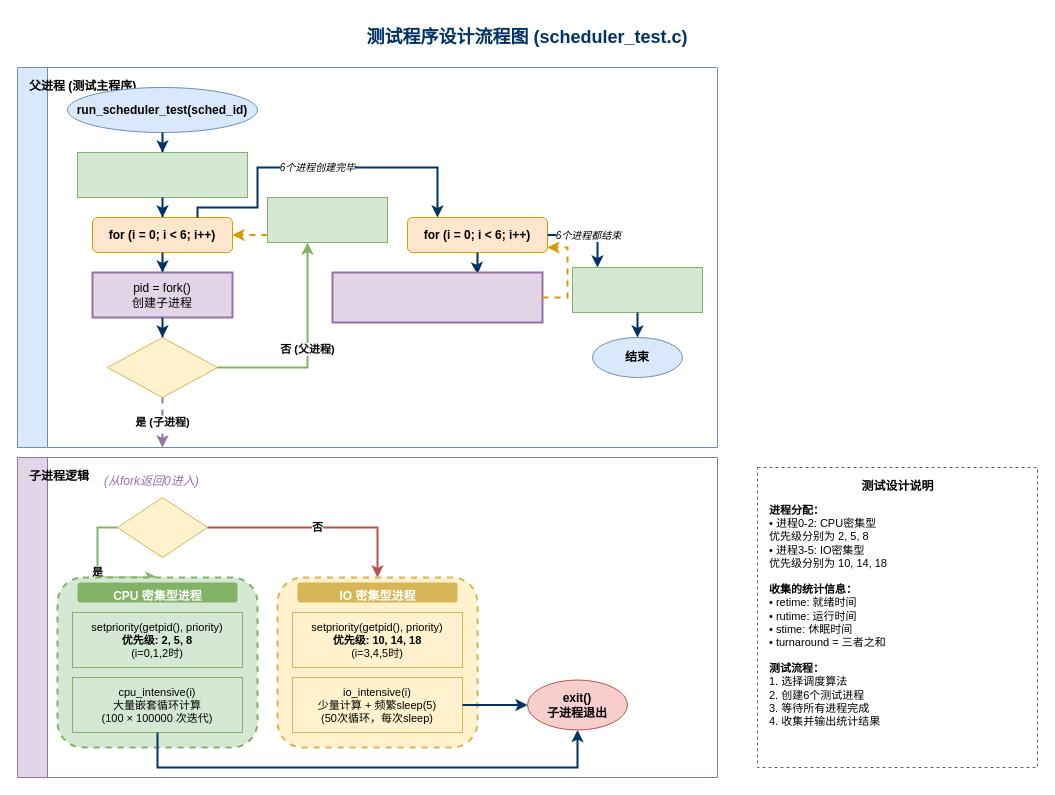
The diagram is 1055 pixels wide and 795 high, and some of its shapes have lost their labels. Here are the shapes that lost their labels. From the top down, the centre of each, then its label:
pixel 162 175: setscheduler(sched_id) 设置当前调度算法
pixel 327 219: pids[i] = pid 记录子进程ID
pixel 437 297: wait2(&retime[i], &rutime[i], &stime[i]) 等待子进程并收集统计信息
pixel 637 289: print_statistics(...) 输出统计结果
pixel 162 367: pid == 0 ?
pixel 162 527: i < 3 ?
